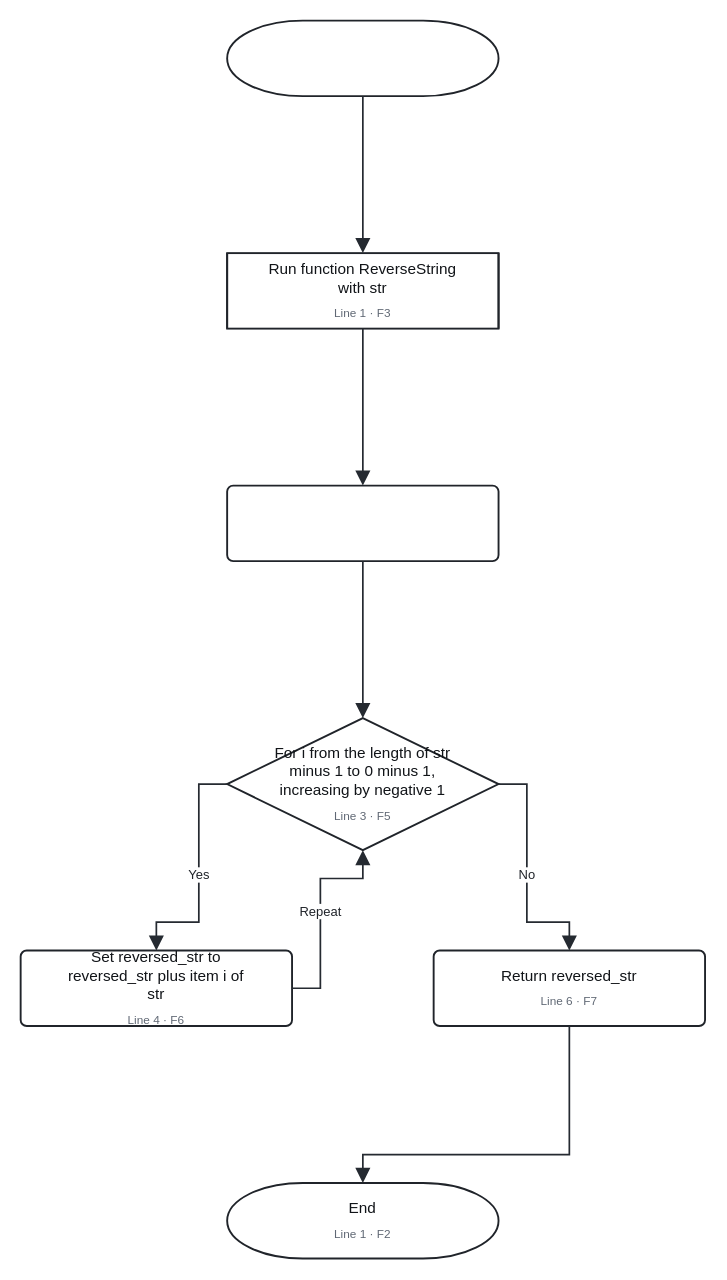
This 727x1280 diagram has some shape labels left out. The centre of each missing label's shape, as x and y in pixels:
"Set reversed_str to an empty string Line 2 · F4" goes at (362,522).
"Start Line 1 · F1" goes at (362,58).
